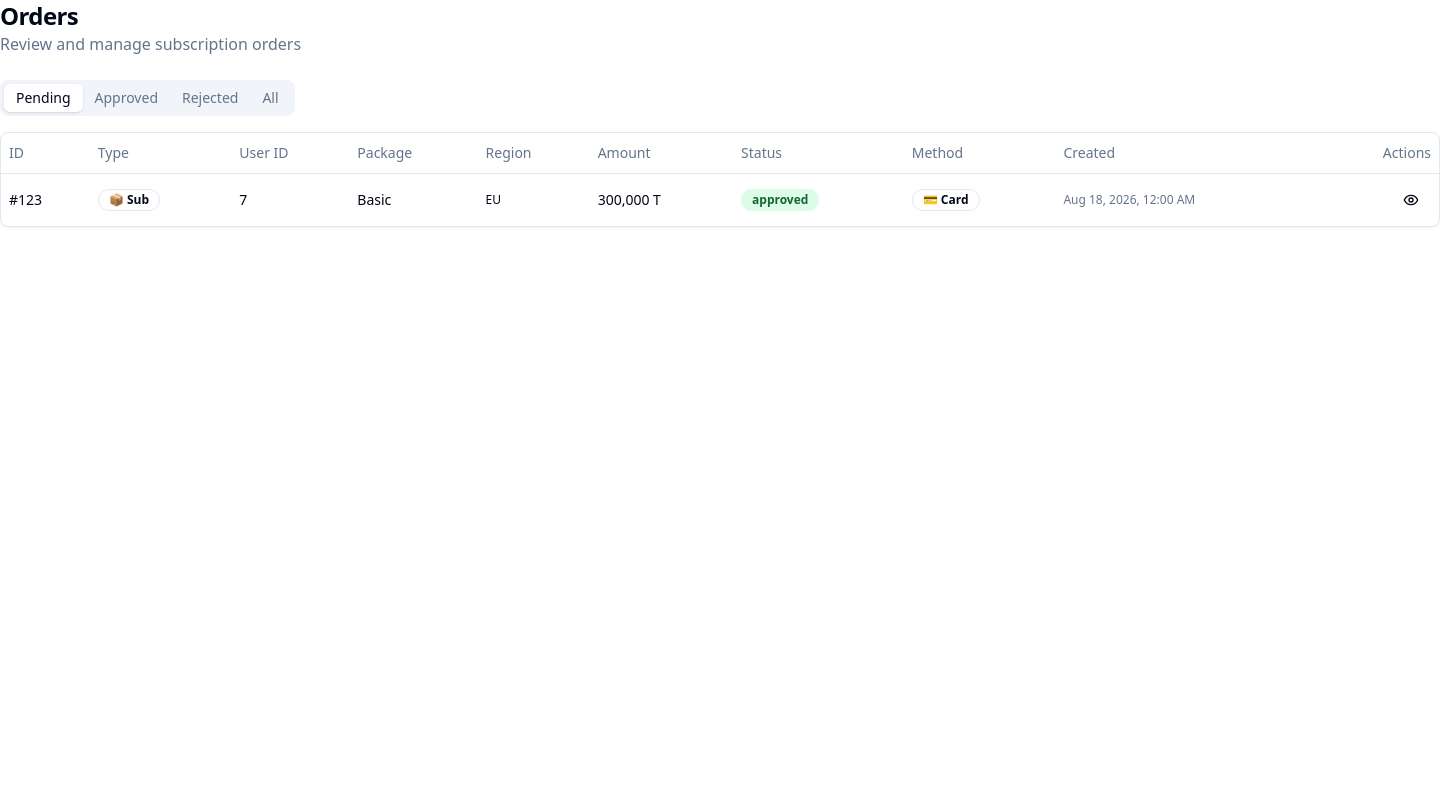
it: OrdersPage receipt visibility › shows no receipt block for an approved card order that never had a receipt
The width and height of the screenshot is (1440, 810).
Click the text "#123" at (14, 199), box 1,173 -> 90,226
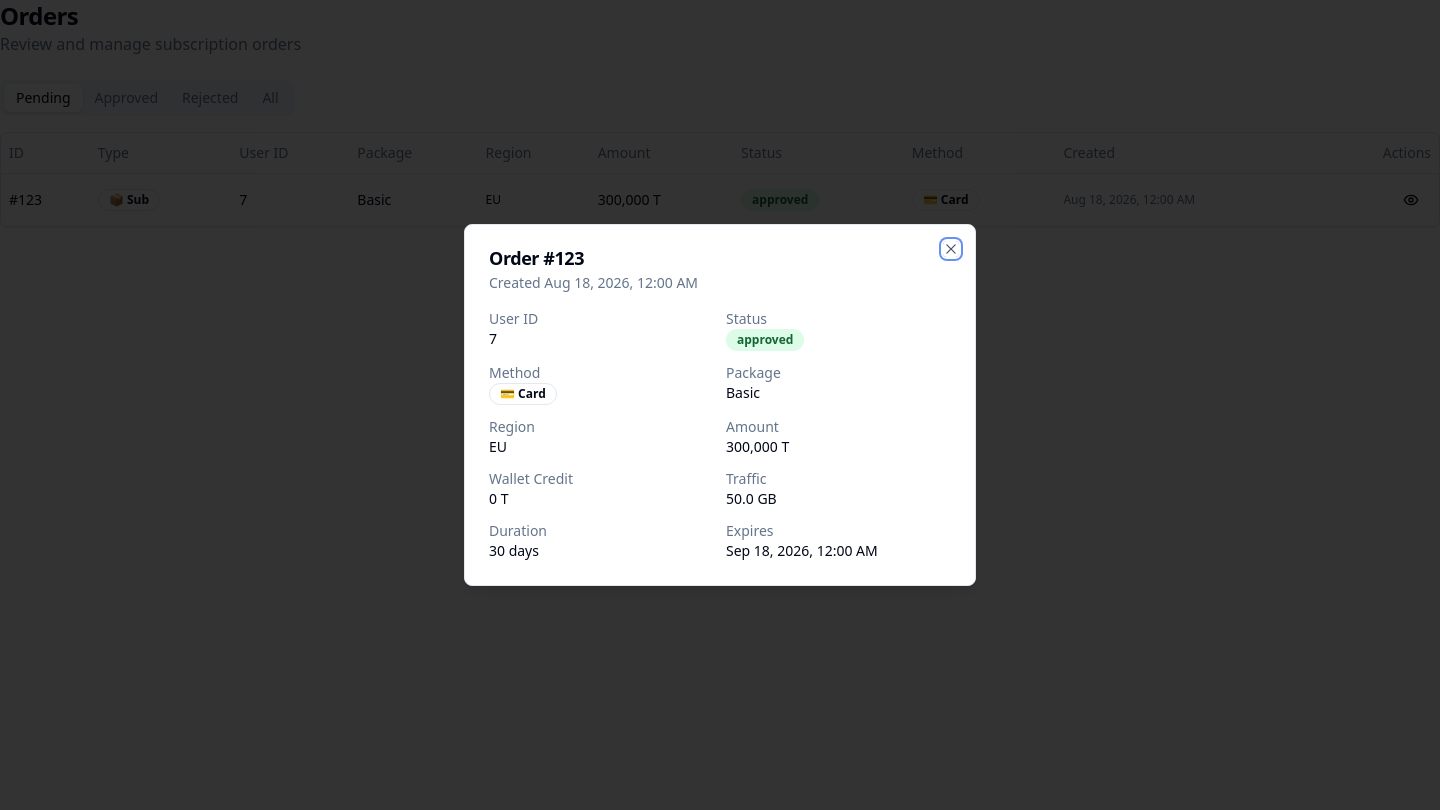
Check: the heading "Order #123" is shown, box 489,246 -> 584,270
